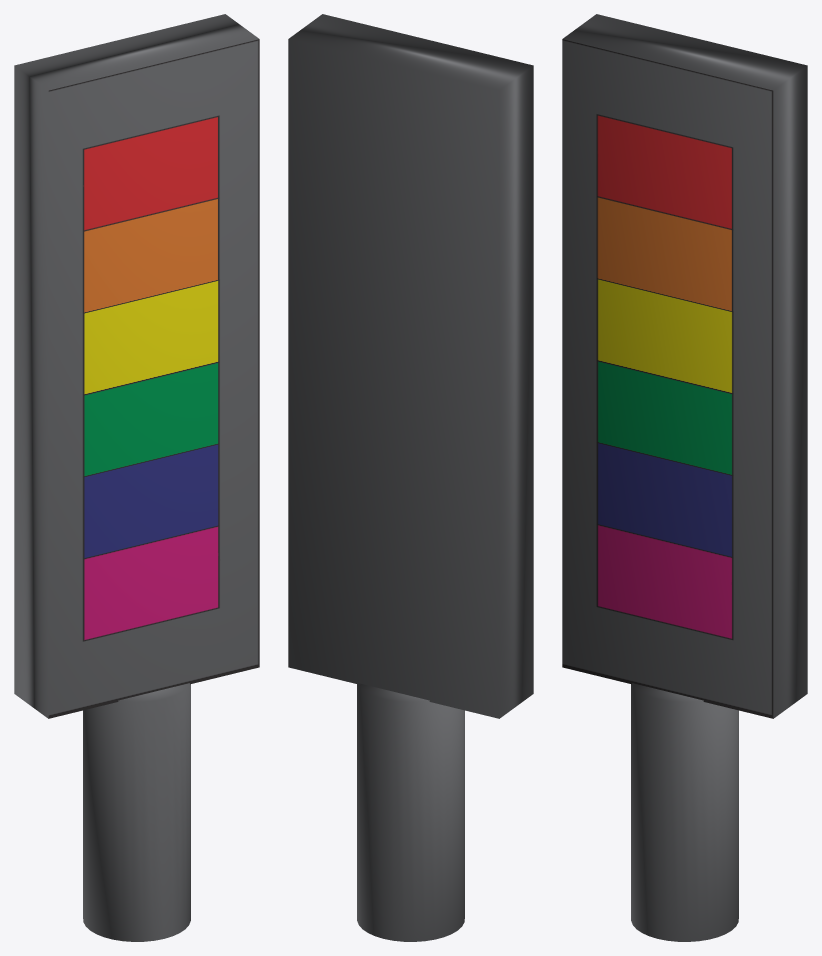
File: painel.fbx
3 renders of one model, left to right at view 1: azimuth 30°, elevation 25°; view 2: azimuth 150°, elevation 25°; view 3: azimuth 330°, elevation 25°, orthographic.
Parts seen in each view (by area): view 1: Cube; view 2: Cube; view 3: Cube.
Part boxes in pixels (bbox=[...]): Cube: bbox=[14, 14, 259, 941]; Cube: bbox=[288, 14, 533, 941]; Cube: bbox=[562, 14, 807, 941].
Size of the model in its own units: 1.69 by 6.64 by 0.7499.
